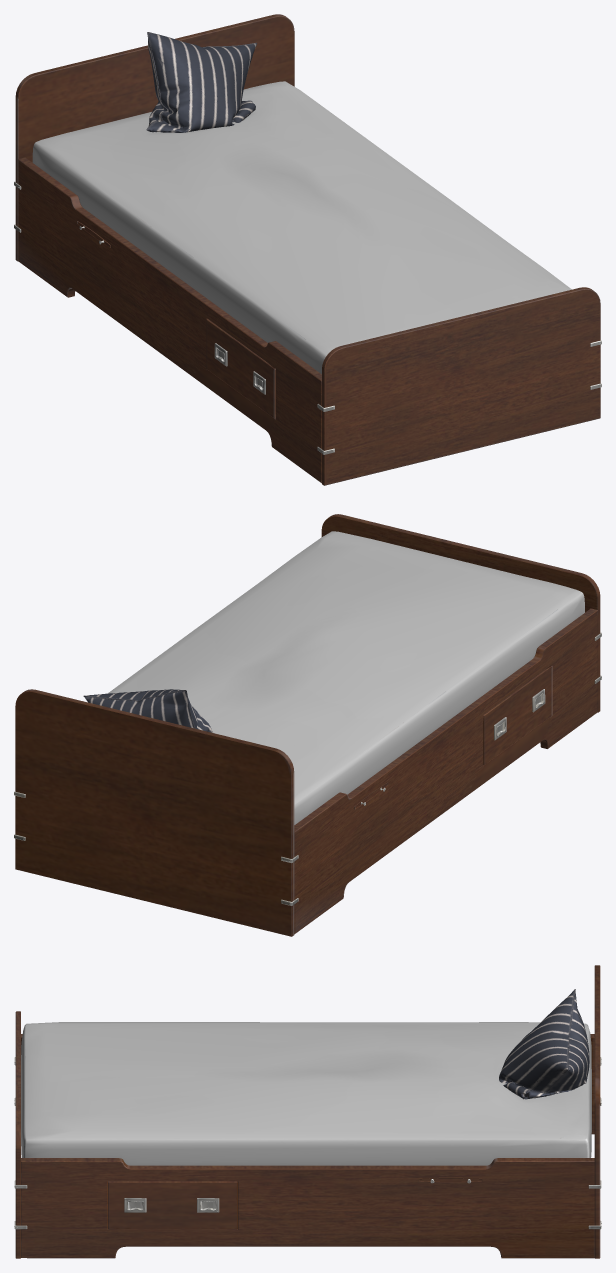
File: raw_model.obj
The picture shows the model from 3 angles, top to bottom: view 1: azimuth 30°, elevation 25°; view 2: azimuth 150°, elevation 25°; view 3: azimuth 270°, elevation 25°; orthographic projection. The views are drawn at different scales.
Visible parts, largest first — view 1: solid_003, solid_001, solid_002, solid_004; view 2: solid_003, solid_001, solid_002, solid_004; view 3: solid_001, solid_003, solid_002, solid_004.
Boxes of the visible parts, x1,y1,x2,y2 form: solid_003: (15, 14, 600, 485); solid_001: (32, 81, 571, 374); solid_002: (146, 32, 257, 132); solid_004: (14, 181, 601, 454); solid_003: (15, 514, 600, 936); solid_001: (108, 531, 584, 824); solid_002: (83, 689, 212, 732); solid_004: (14, 632, 601, 905); solid_001: (21, 1022, 591, 1165); solid_003: (15, 965, 600, 1258); solid_002: (499, 989, 589, 1099); solid_004: (14, 1057, 601, 1229).
Bounding box in the file's own units: 1.14 × 0.7937 × 2.15.
1 material, 1 textured.
